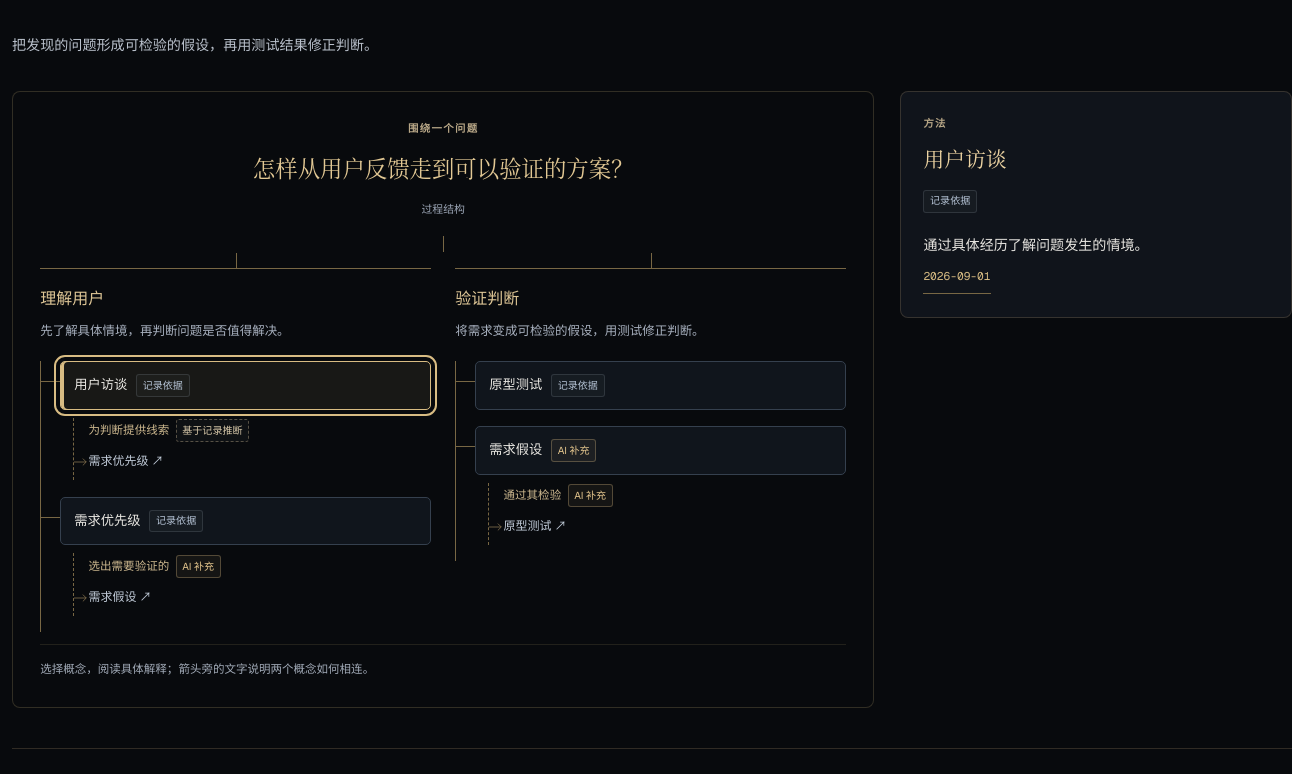
Test case: brings mobile concept details into view even when activating the currently selected node
The width and height of the screenshot is (1292, 774).
Press Enter
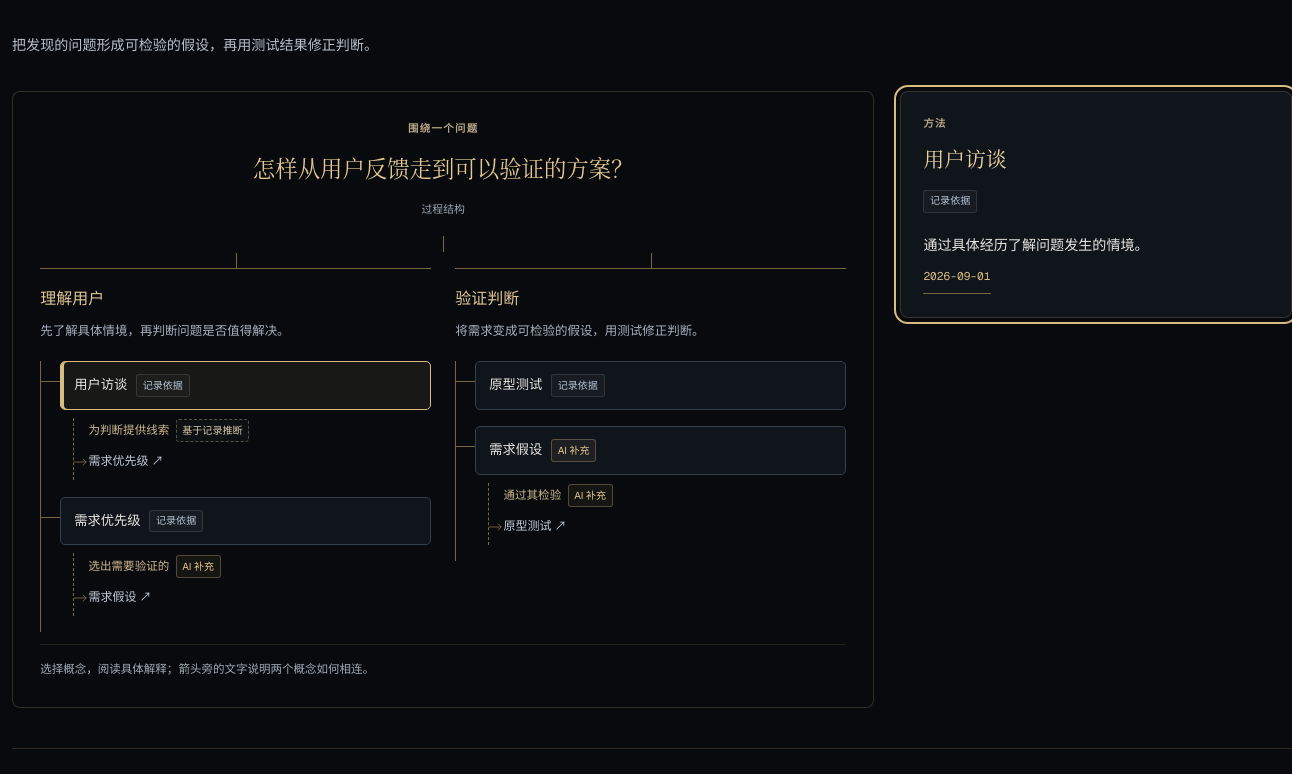
Click the button with aria-label "定位概念 需求假设". click: click(120, 598)
box: left=89, top=580, right=152, bottom=616
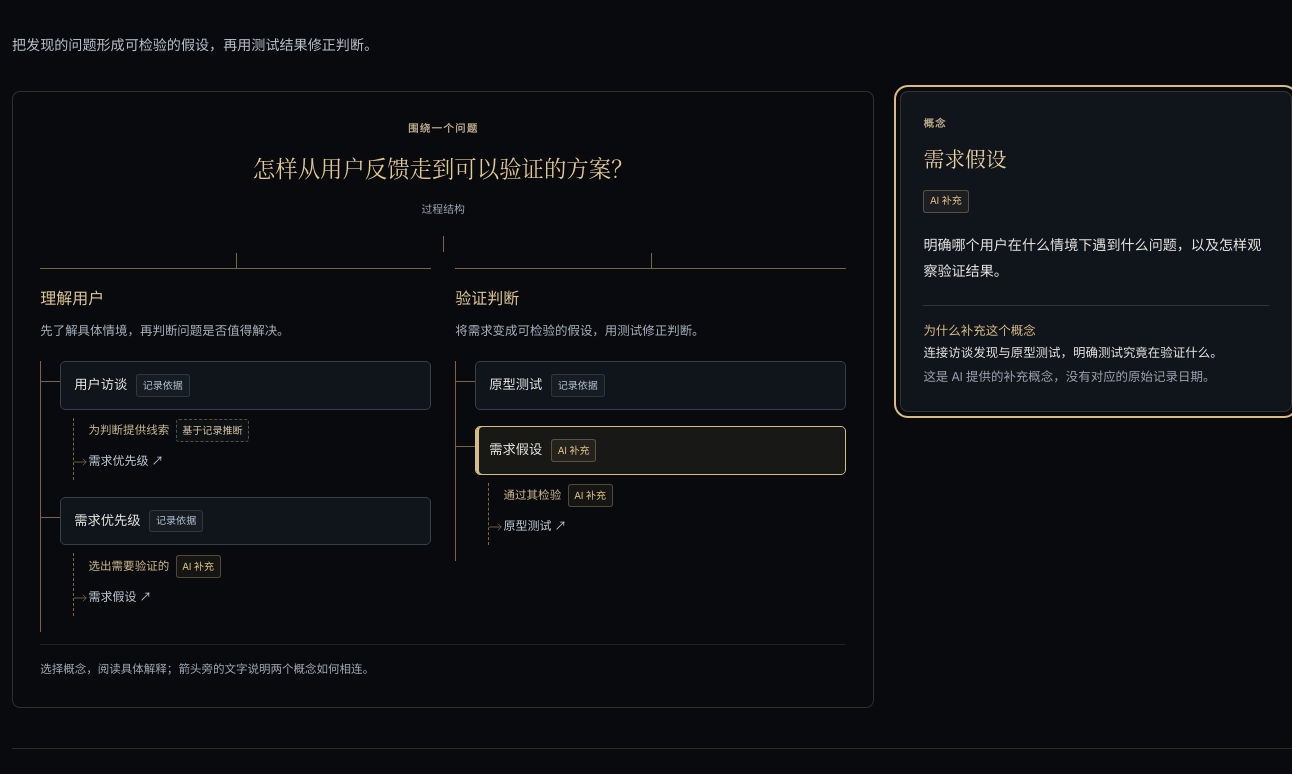
Expected: the heading "需求假设" is shown, left=923, top=144, right=1007, bottom=174
